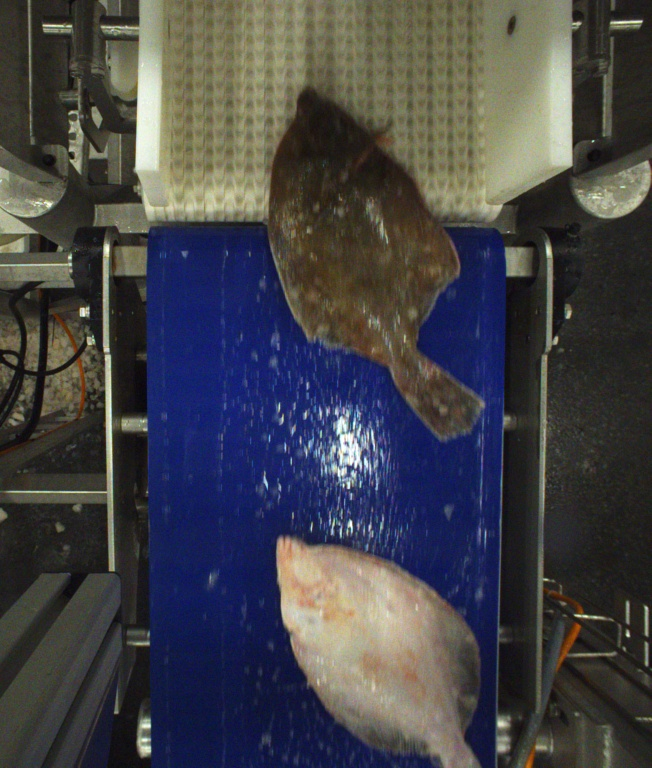PLE: (265, 88, 487, 440)
